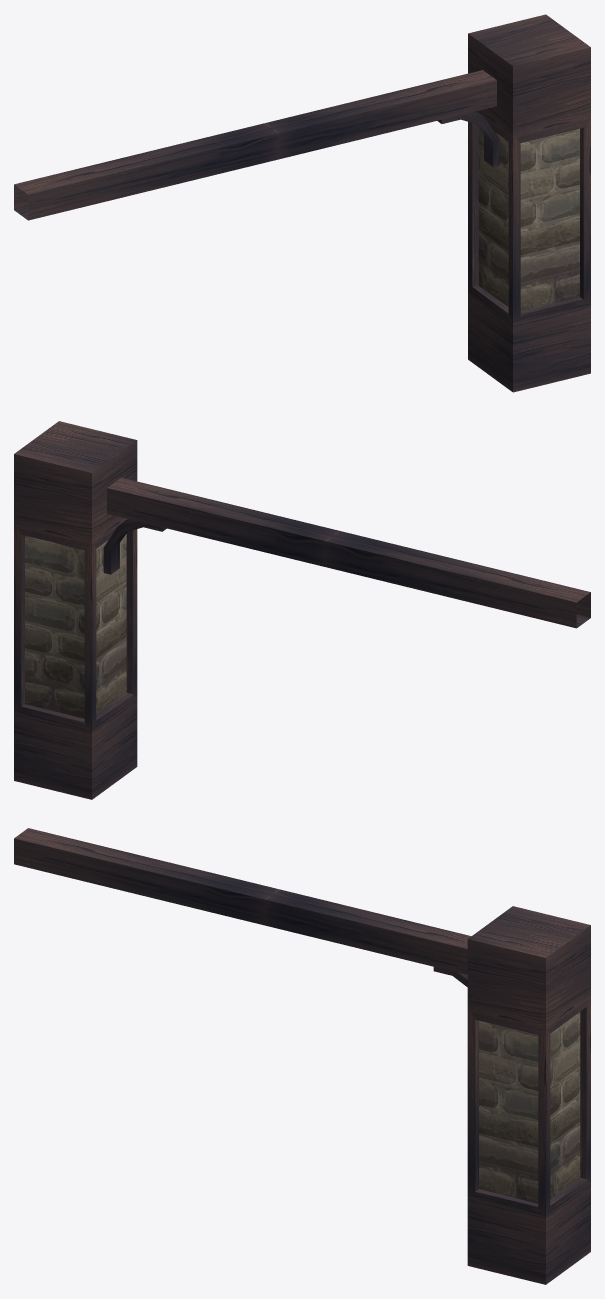
File: Pillar_x2_NoEnd.fbx
The picture shows the model from 3 angles, top to bottom: view 1: azimuth 30°, elevation 25°; view 2: azimuth 150°, elevation 25°; view 3: azimuth 330°, elevation 25°; orthographic projection.
Visible parts, largest first — view 1: Pillar_x2_NoEnd; view 2: Pillar_x2_NoEnd; view 3: Pillar_x2_NoEnd.
Part boxes in pixels (x1,y1,x2,y2): Pillar_x2_NoEnd: (14,14,590,392); Pillar_x2_NoEnd: (14,421,590,799); Pillar_x2_NoEnd: (14,828,590,1284).
Bounding box in the file's own units: 1.1 × 0.6265 × 0.1567.
